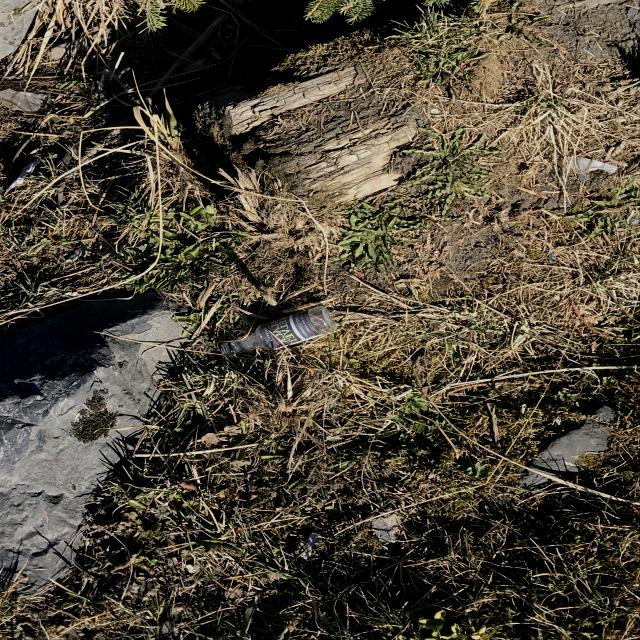Glass bottle: (220, 305, 336, 357)
Other plastic bottle: (572, 157, 619, 174)
